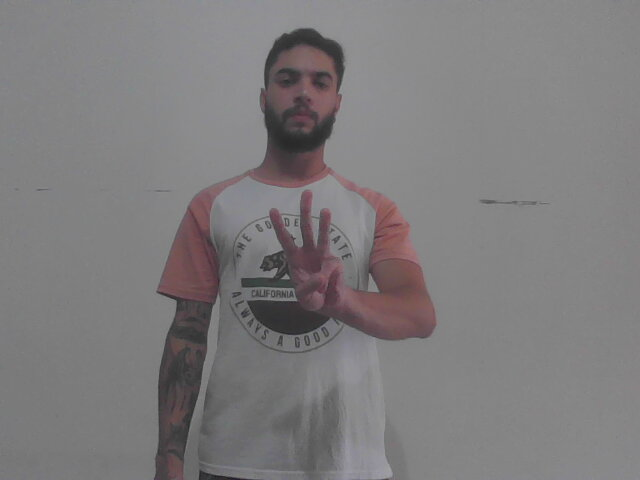w: (268, 187, 349, 316)
